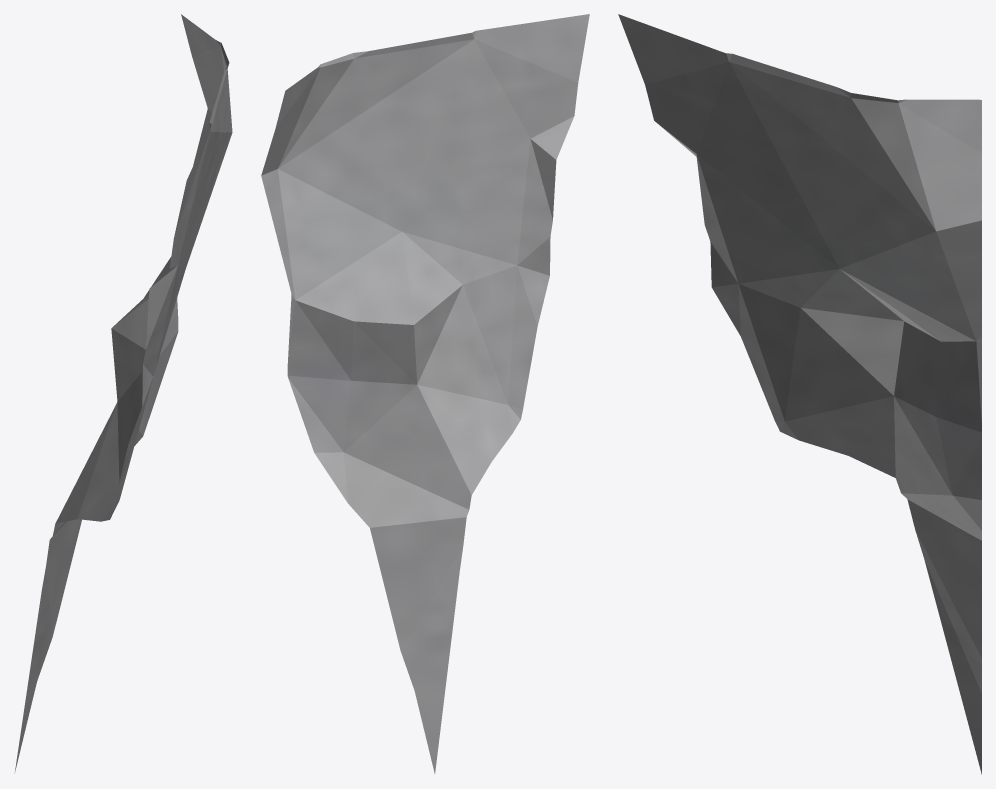
3 renders of one model, left to right at view 1: azimuth 30°, elevation 25°; view 2: azimuth 150°, elevation 25°; view 3: azimuth 270°, elevation 25°, orthographic. The views are drawn at different scales.
Bounding box in the file's own units: 0.0626 × 0.2194 × 0.0951.
1 material, 1 textured.
